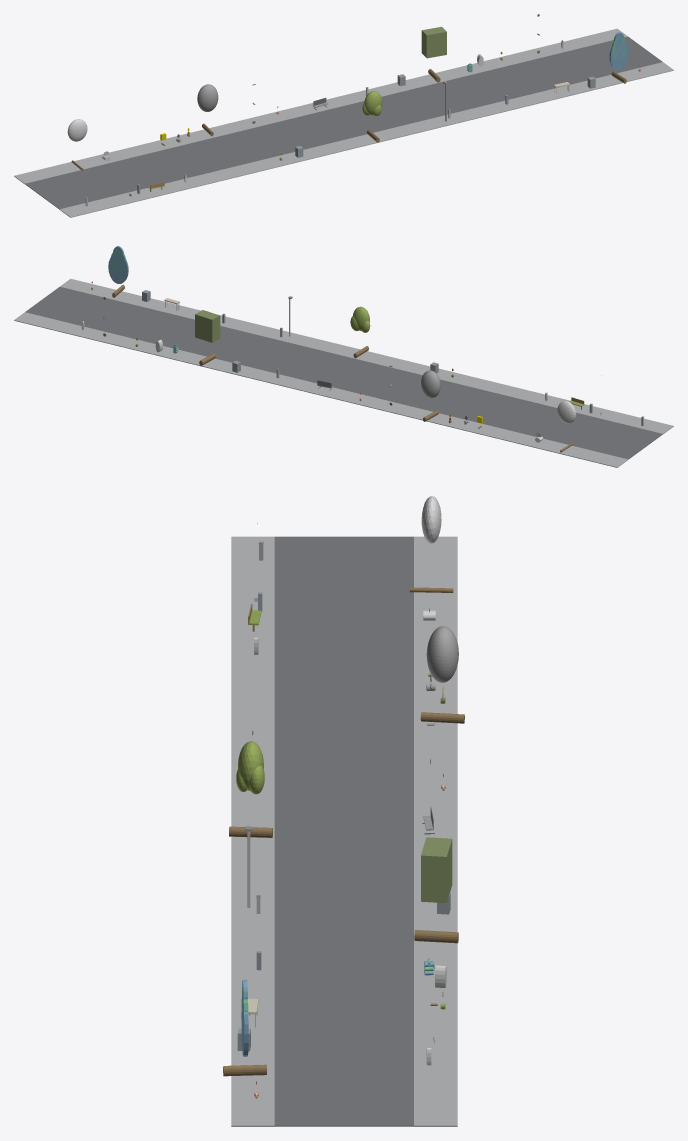
3 renders of one model, top to bottom at view 1: azimuth 30°, elevation 25°; view 2: azimuth 150°, elevation 25°; view 3: azimuth 270°, elevation 25°, orthographic. The views are drawn at different scales.
Parts seen in each view (by area): view 1: road_slab, sidewalk_left, sidewalk_right, inst_0015, inst_0016, inst_0013, inst_0014, inst_0012; view 2: road_slab, sidewalk_right, sidewalk_left, inst_0015, inst_0016, inst_0013, inst_0014, inst_0012; view 3: road_slab, sidewalk_left, sidewalk_right, inst_0015, inst_0013, inst_0014, inst_0016, inst_0012.
Part boxes in pixels (x1,y1,x2,y2): road_slab: [25, 36, 662, 209]; sidewalk_left: [59, 62, 673, 217]; sidewalk_right: [14, 28, 627, 183]; inst_0015: [421, 26, 446, 82]; inst_0016: [609, 32, 628, 83]; inst_0013: [197, 84, 218, 136]; inst_0014: [362, 91, 382, 142]; inst_0012: [67, 119, 87, 170]; road_slab: [25, 287, 662, 459]; sidewalk_right: [14, 312, 628, 467]; sidewalk_left: [60, 278, 673, 434]; inst_0015: [195, 310, 220, 365]; inst_0016: [108, 246, 128, 297]; inst_0013: [421, 370, 440, 421]; inst_0014: [350, 306, 370, 358]; inst_0012: [557, 401, 576, 452]; road_slab: [274, 536, 413, 1126]; sidewalk_left: [231, 536, 274, 1126]; sidewalk_right: [414, 536, 457, 1126]; inst_0015: [414, 837, 458, 943]; inst_0013: [420, 626, 464, 723]; inst_0014: [229, 741, 272, 837]; inst_0016: [223, 980, 266, 1076]; inst_0012: [409, 496, 453, 592].
Bounding box in the file's own units: 80 × 6.08 × 13.88.
